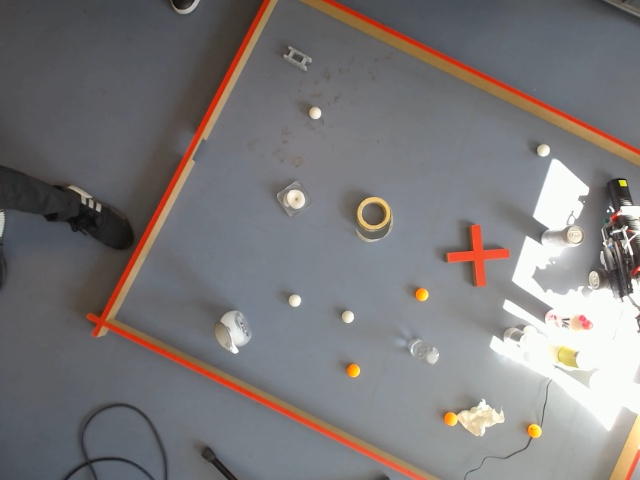orange: (413, 287, 431, 303), (345, 363, 361, 379), (443, 411, 457, 427), (527, 424, 541, 439)
robot: (600, 171, 640, 398)
white: (216, 310, 237, 351), (281, 186, 307, 217), (215, 313, 231, 350), (424, 346, 441, 367), (534, 142, 552, 159), (286, 293, 303, 310), (307, 105, 323, 121), (340, 309, 356, 325), (589, 270, 599, 285)
